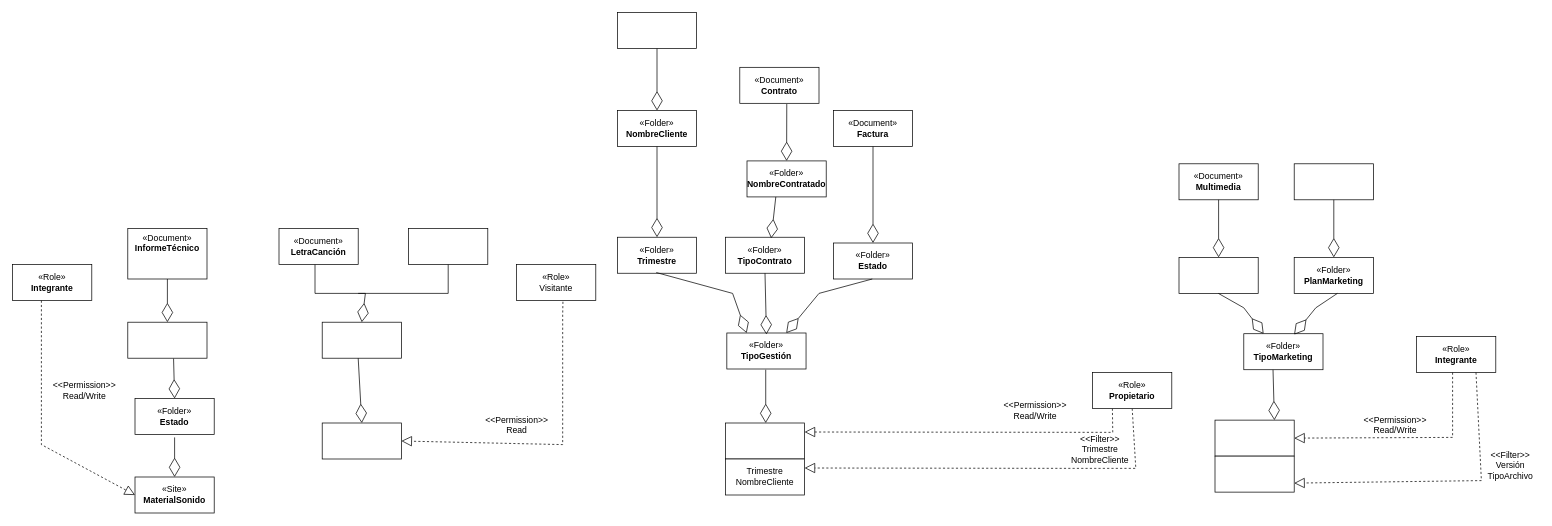
This 1552x526 diagram has some shape labels left out. Here are the shapes that lost their labels. From the top down, the box of each, then its label:
(617, 12, 697, 49): «Document» Reserva
(1293, 163, 1373, 200): «Document» Marketing
(408, 228, 488, 265): «Document» Partitura
(1178, 257, 1258, 293): «Folder» NombreEvento
(127, 321, 207, 358): «Folder» CódigoMaterial
(321, 321, 401, 358): «Folder» NombreCanción
(321, 422, 401, 459): «Site» Música
(725, 422, 805, 459): «Site» Gestión
(1214, 419, 1294, 456): «Site» Marketing
(1214, 455, 1294, 492): Versión TipoArchivo
